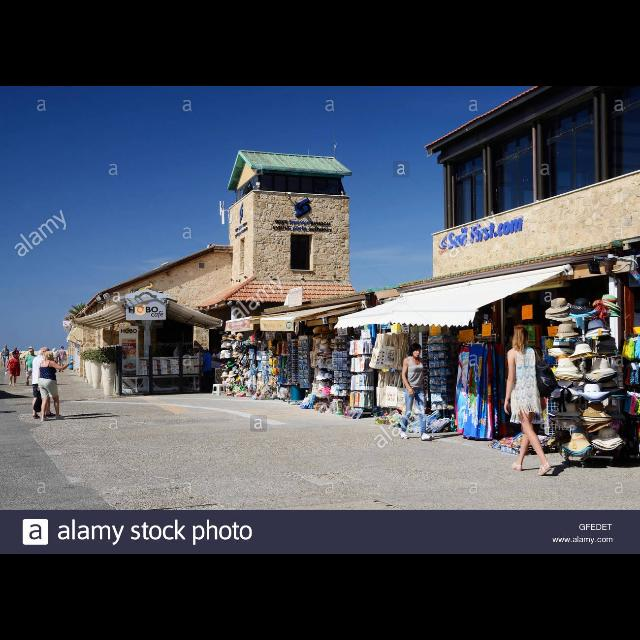head: (514, 327, 530, 345), (411, 344, 422, 358), (43, 351, 53, 361), (40, 348, 50, 356), (213, 346, 219, 354), (193, 346, 199, 354), (202, 349, 208, 355), (12, 352, 18, 358), (4, 344, 8, 350), (30, 350, 34, 354), (30, 347, 34, 351), (15, 347, 18, 351), (61, 346, 64, 349), (54, 348, 56, 352)
person: (504, 326, 558, 476), (399, 342, 435, 442), (38, 351, 76, 422), (31, 347, 57, 419), (199, 349, 213, 393), (209, 345, 223, 389), (24, 349, 40, 387), (6, 352, 22, 386), (192, 346, 205, 386), (25, 346, 37, 378), (58, 346, 68, 374), (0, 344, 10, 372), (51, 347, 59, 373), (12, 346, 21, 369)
